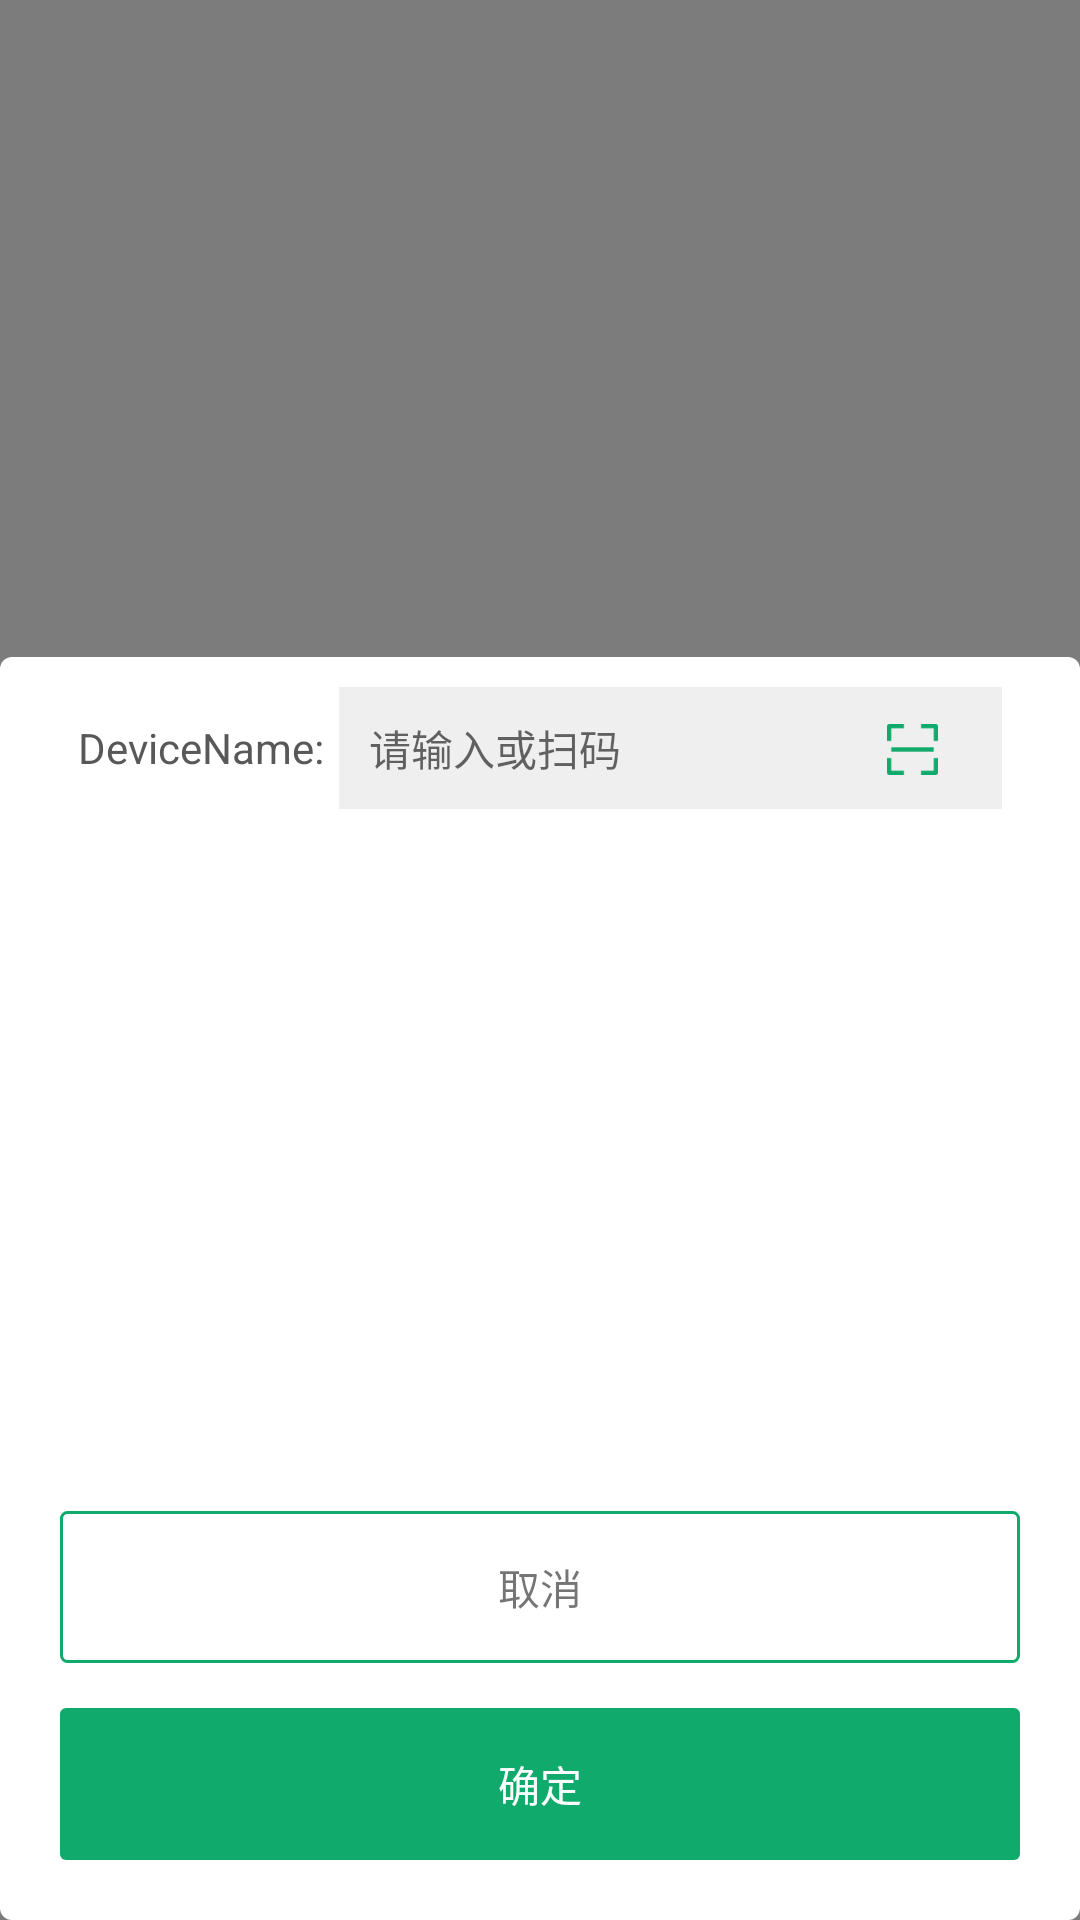

Named icons in this screenshot (1080×1920) and their centers, (x,y):
scan: (912,749)
